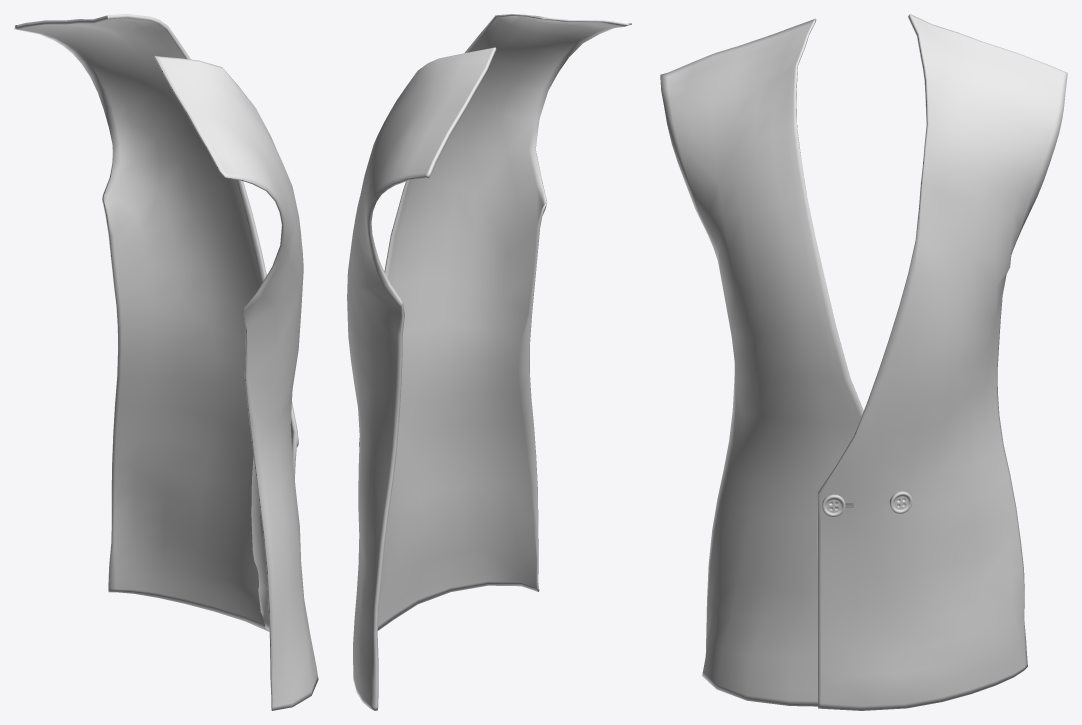
The picture shows the model from 3 angles, left to right: view 1: azimuth 30°, elevation 25°; view 2: azimuth 150°, elevation 25°; view 3: azimuth 270°, elevation 25°; orthographic projection.
Visible parts, largest first — view 1: SM_J_FrontB2*1; view 2: SM_J_FrontB2*1; view 3: SM_J_FrontB2*1, SM_J_B__FrontB2*1.
Boxes of the visible parts, x1=… form: SM_J_FrontB2*1: x1=14, y1=14, x2=318, y2=710; SM_J_FrontB2*1: x1=347, y1=14, x2=631, y2=710; SM_J_FrontB2*1: x1=660, y1=14, x2=1067, y2=710; SM_J_B__FrontB2*1: x1=822, y1=491, x2=912, y2=516.
Bounding box in the file's own units: 1.07 × 4.04 × 2.37.
Materials: 4 (1 with a texture image).
